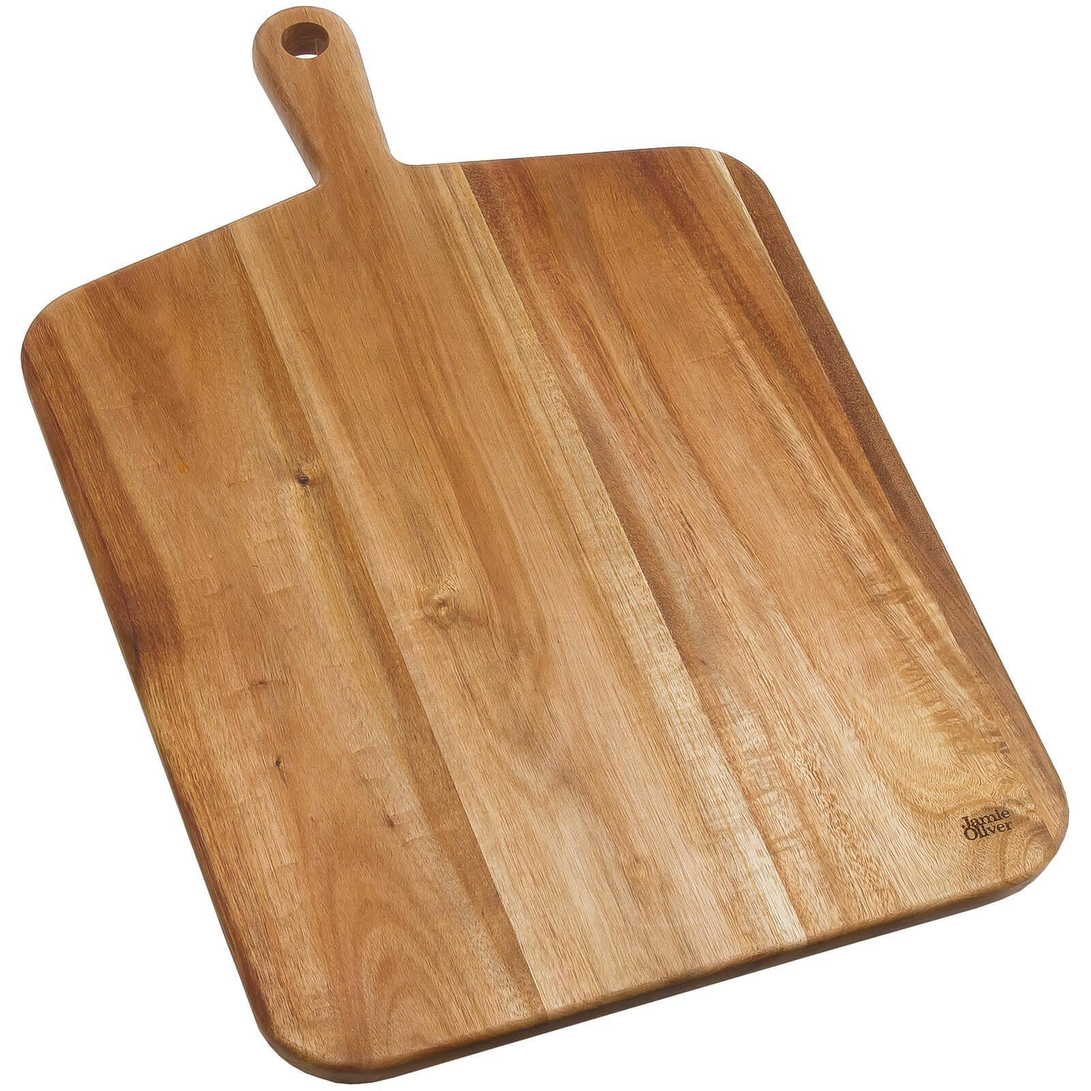gloved_hand: (5, 0, 1086, 1091)
